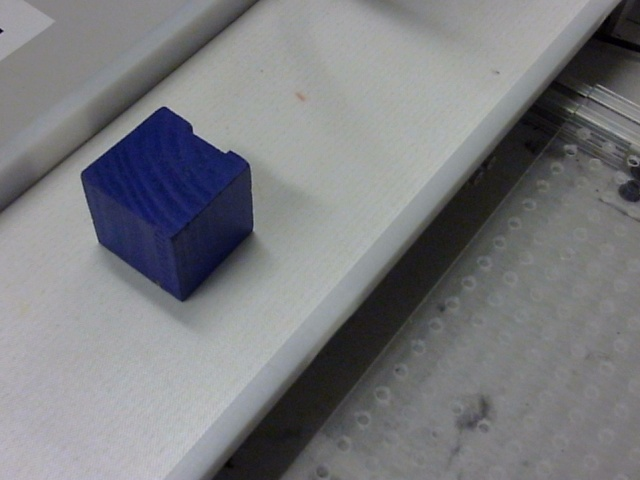BlueBlock: (80, 106, 254, 302)
